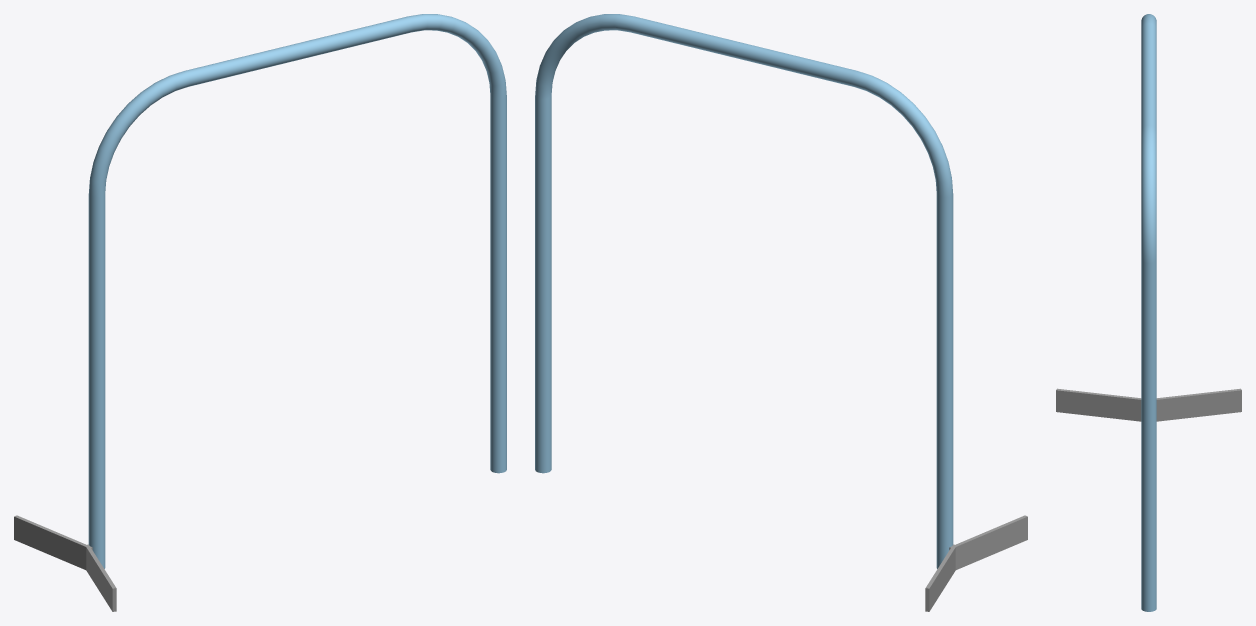
The model's file is Gate.dae.
3 renders of one model, left to right at view 1: azimuth 30°, elevation 25°; view 2: azimuth 150°, elevation 25°; view 3: azimuth 270°, elevation 25°, orthographic. The views are drawn at different scales.
Parts seen in each view (by area): view 1: 66c246a9a2face0ed8b12ccd (×2); view 2: 66c246a9a2face0ed8b12ccd (×2); view 3: 66c246a9a2face0ed8b12ccd (×2).
Boxes of the visible parts, x1,y1,x2,y2 form: 66c246a9a2face0ed8b12ccd (×2): (14, 14, 506, 611); 66c246a9a2face0ed8b12ccd (×2): (535, 14, 1027, 611); 66c246a9a2face0ed8b12ccd (×2): (1056, 14, 1241, 611).
Bounding box in the file's own units: 0.4957 × 0.1932 × 0.508.
